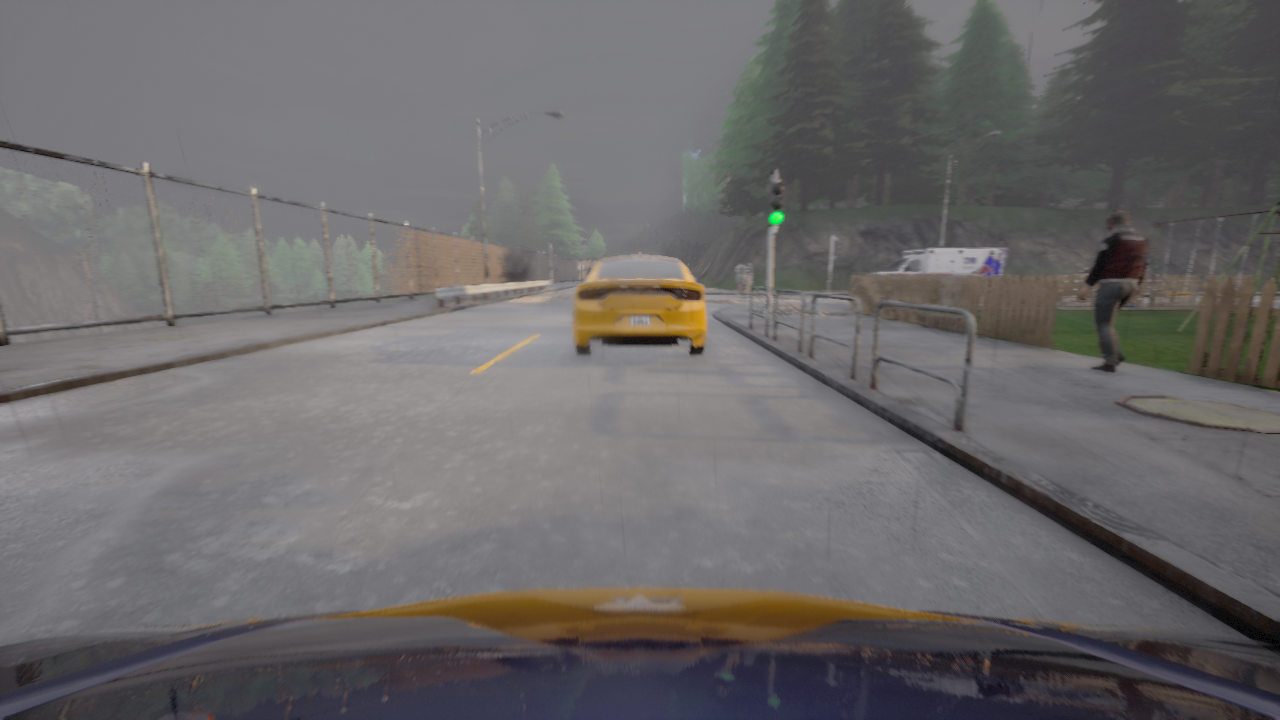cyclist: (0, 588, 1279, 719), (573, 252, 706, 355), (867, 248, 1007, 290), (1050, 265, 1160, 297)
pedestrian: (1078, 209, 1149, 372), (736, 261, 747, 292), (744, 263, 752, 290)
